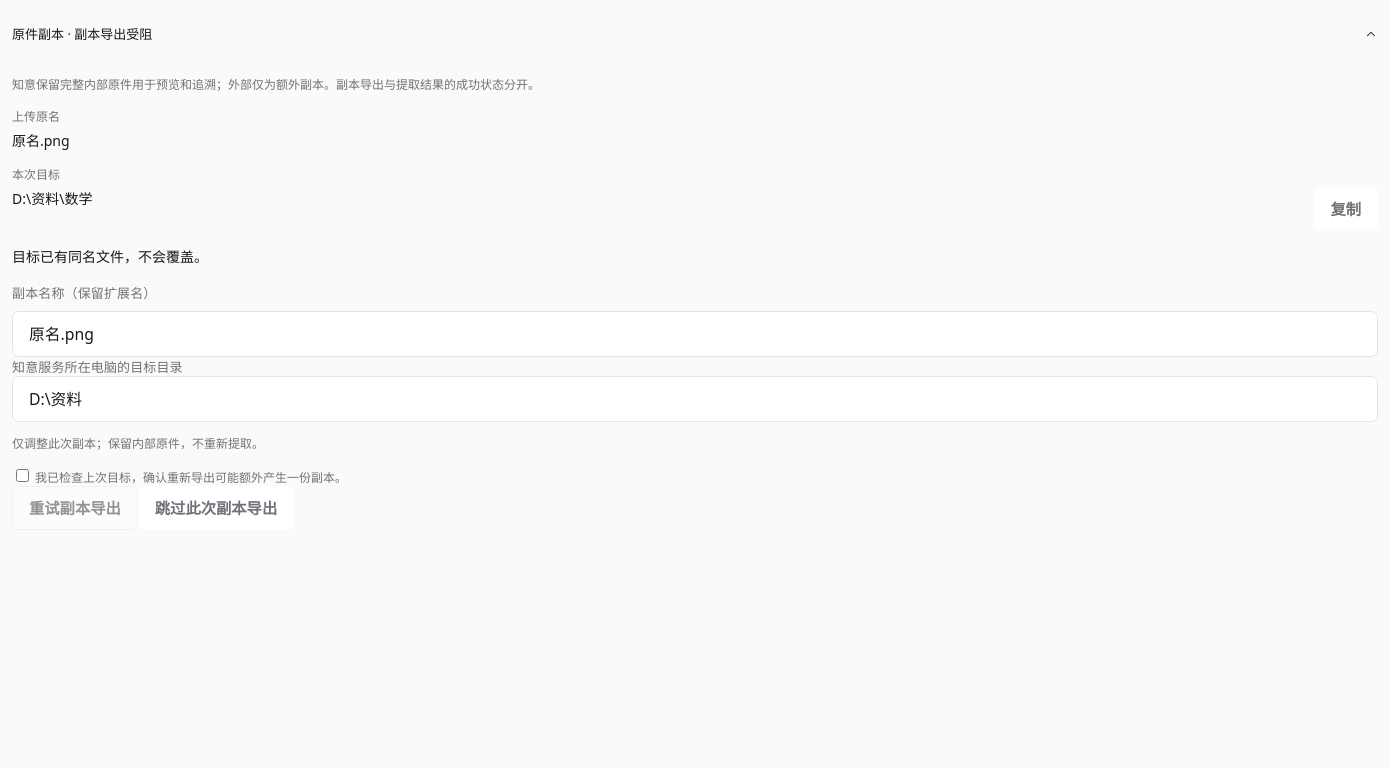
Test: requires explicit acknowledgement for uncertain publication but allows skipping
The width and height of the screenshot is (1390, 768).
Expected: the button "重试副本导出" is disabled, top-left (12, 486), bottom-right (138, 530)
Click the button "跳过此次副本导出".
click(216, 508)  # box top-left (138, 486), bottom-right (294, 530)
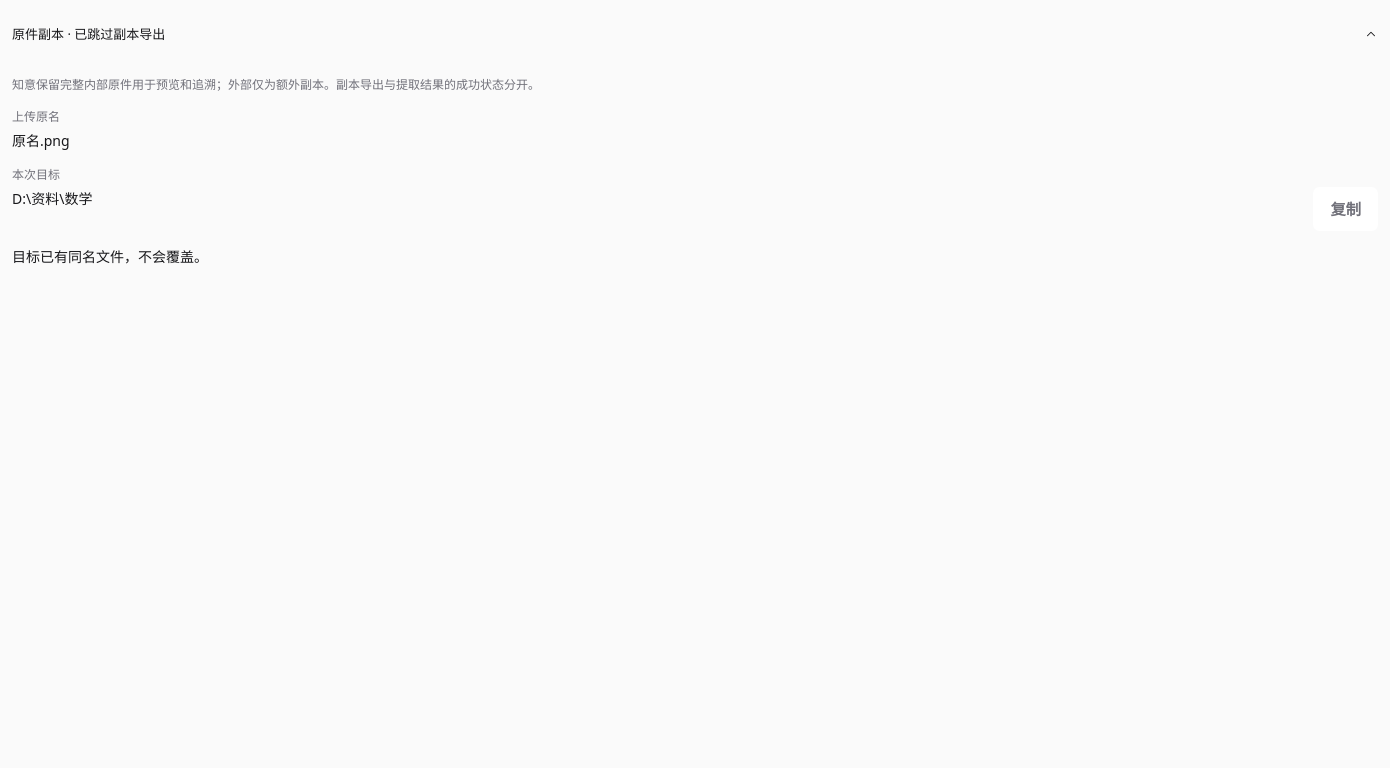
Now the text "原件副本 · 已跳过副本导出" is shown, box top-left (12, 24), bottom-right (165, 43)
